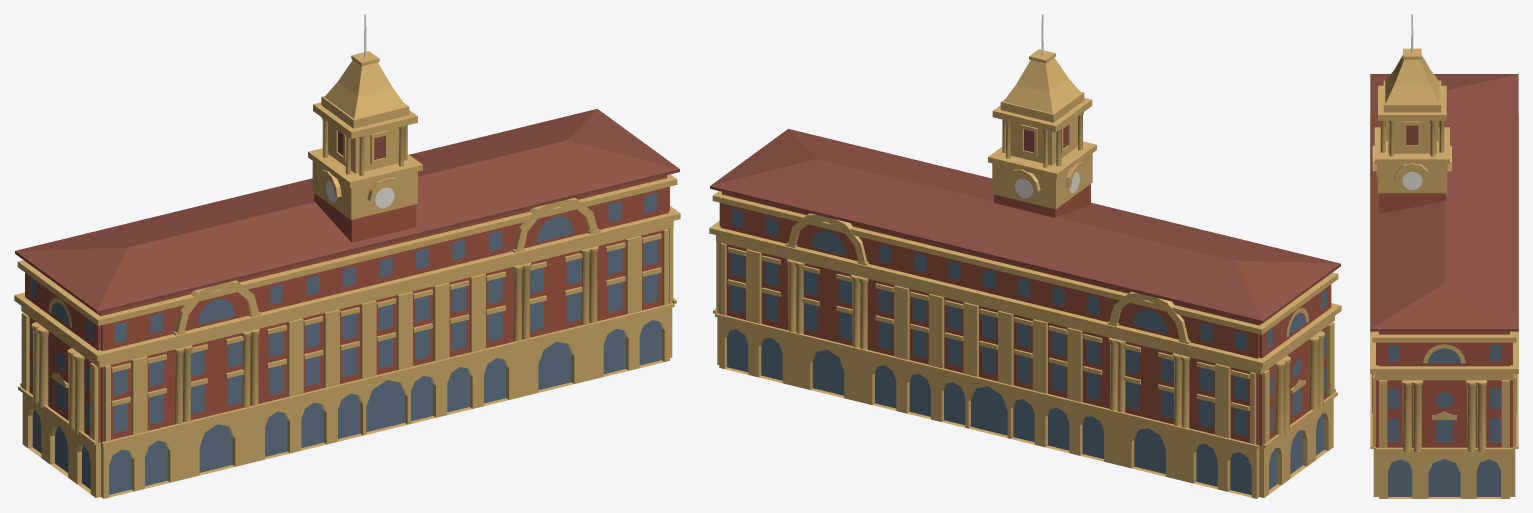
Rendered from auckland-ferry-building.glb.
3 renders of one model, left to right at view 1: azimuth 30°, elevation 25°; view 2: azimuth 150°, elevation 25°; view 3: azimuth 270°, elevation 25°, orthographic. The views are drawn at different scales.
Parts seen in each view (by area): view 1: Ferry Building; view 2: Ferry Building; view 3: Ferry Building.
Boxes of the visible parts, x1=… form: Ferry Building: x1=14, y1=14, x2=680, y2=498; Ferry Building: x1=709, y1=14, x2=1341, y2=498; Ferry Building: x1=1370, y1=14, x2=1518, y2=498.
Size of the model in its own units: 65.48 by 42.5 by 16.
